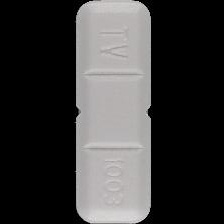0615-7689: (0, 0, 224, 224)
